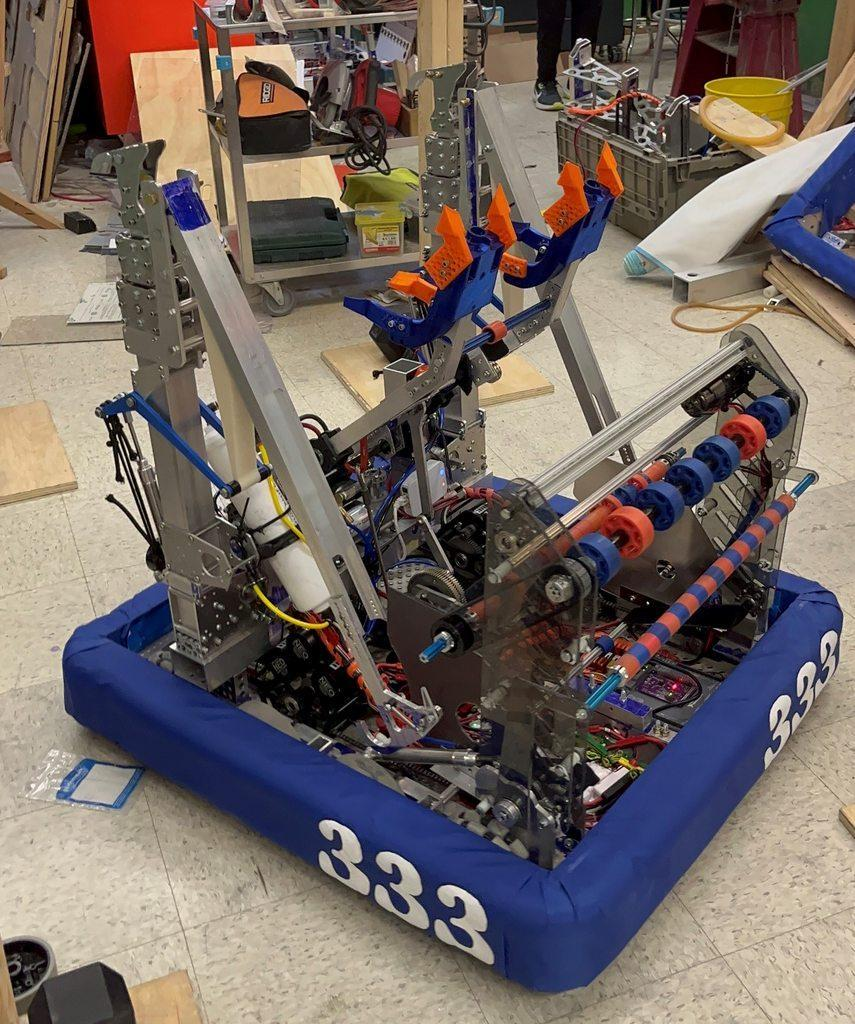robot: (53, 114, 853, 996)
